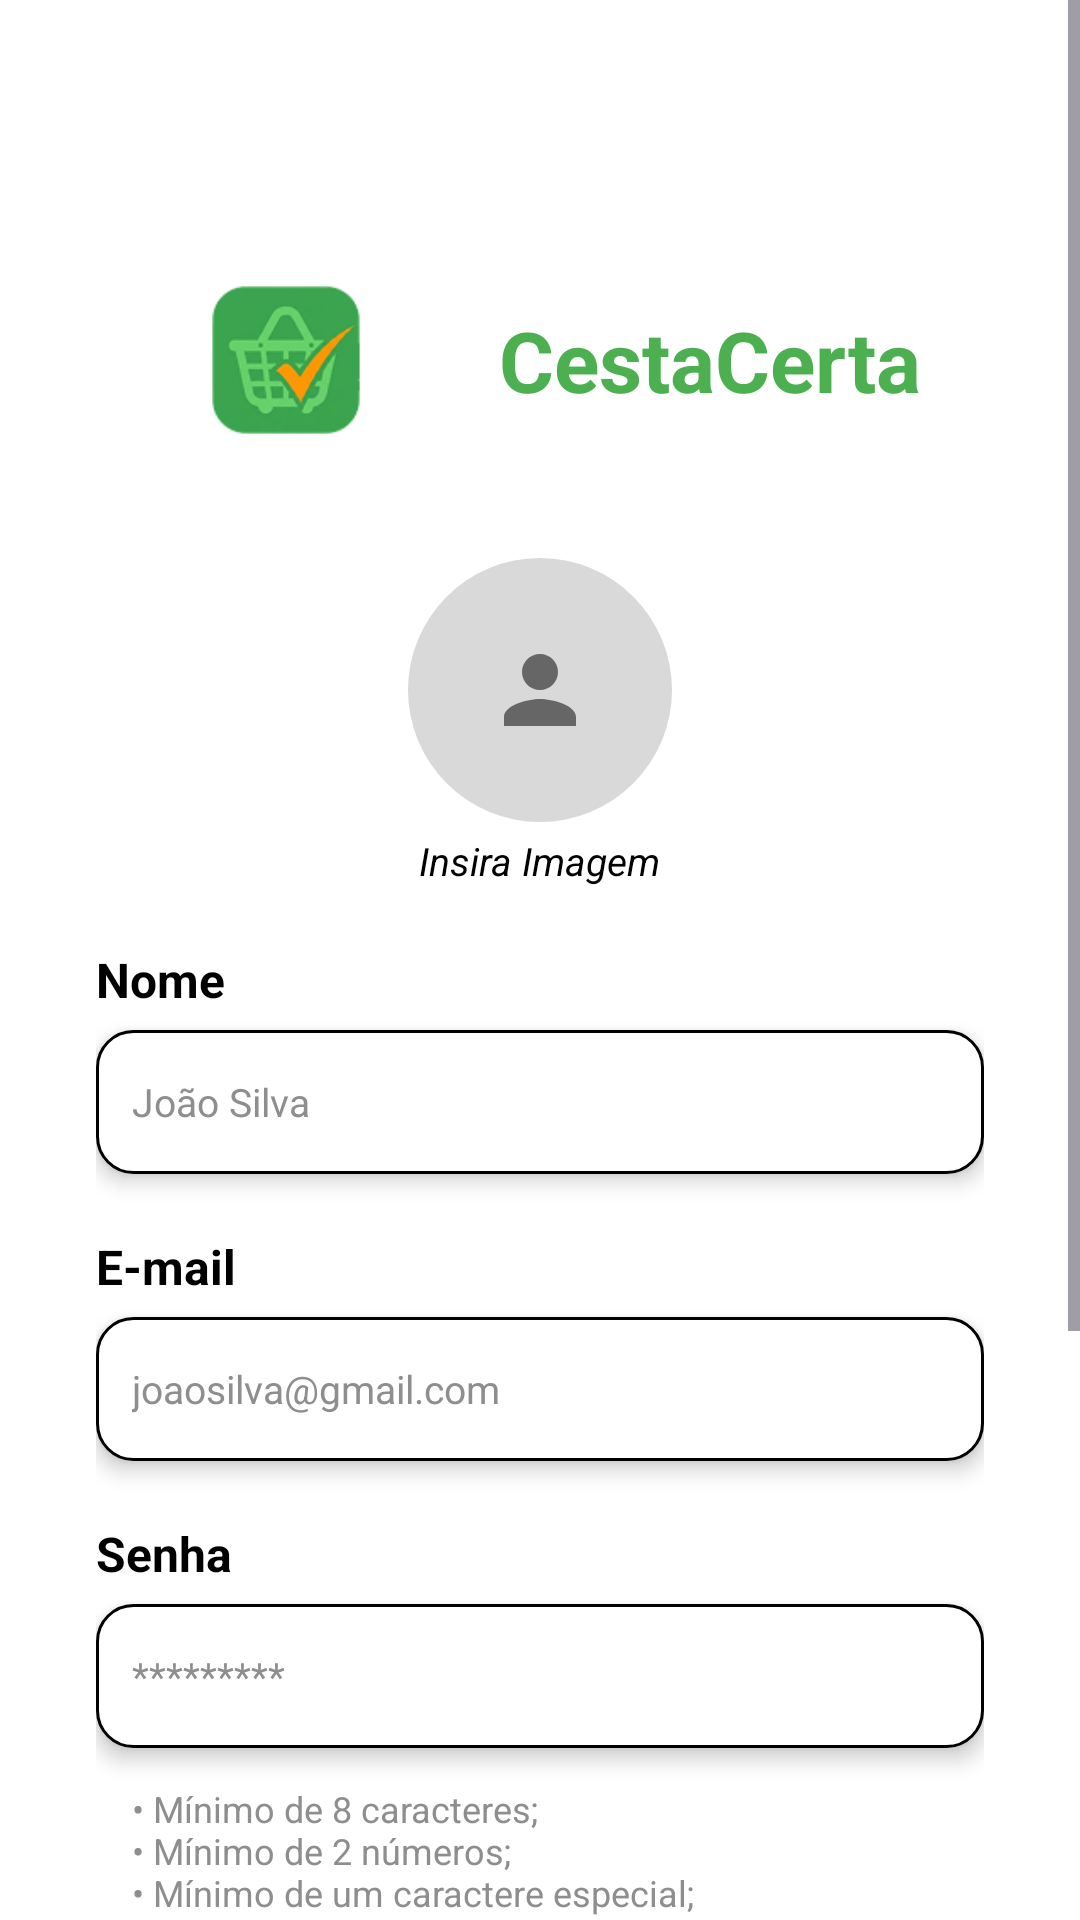

Locate icon controls on the screen. Image size 1080w x 1920h, boxes as (x1, y1, x2, y2).
Foto de perfil: (408, 558, 672, 822)
